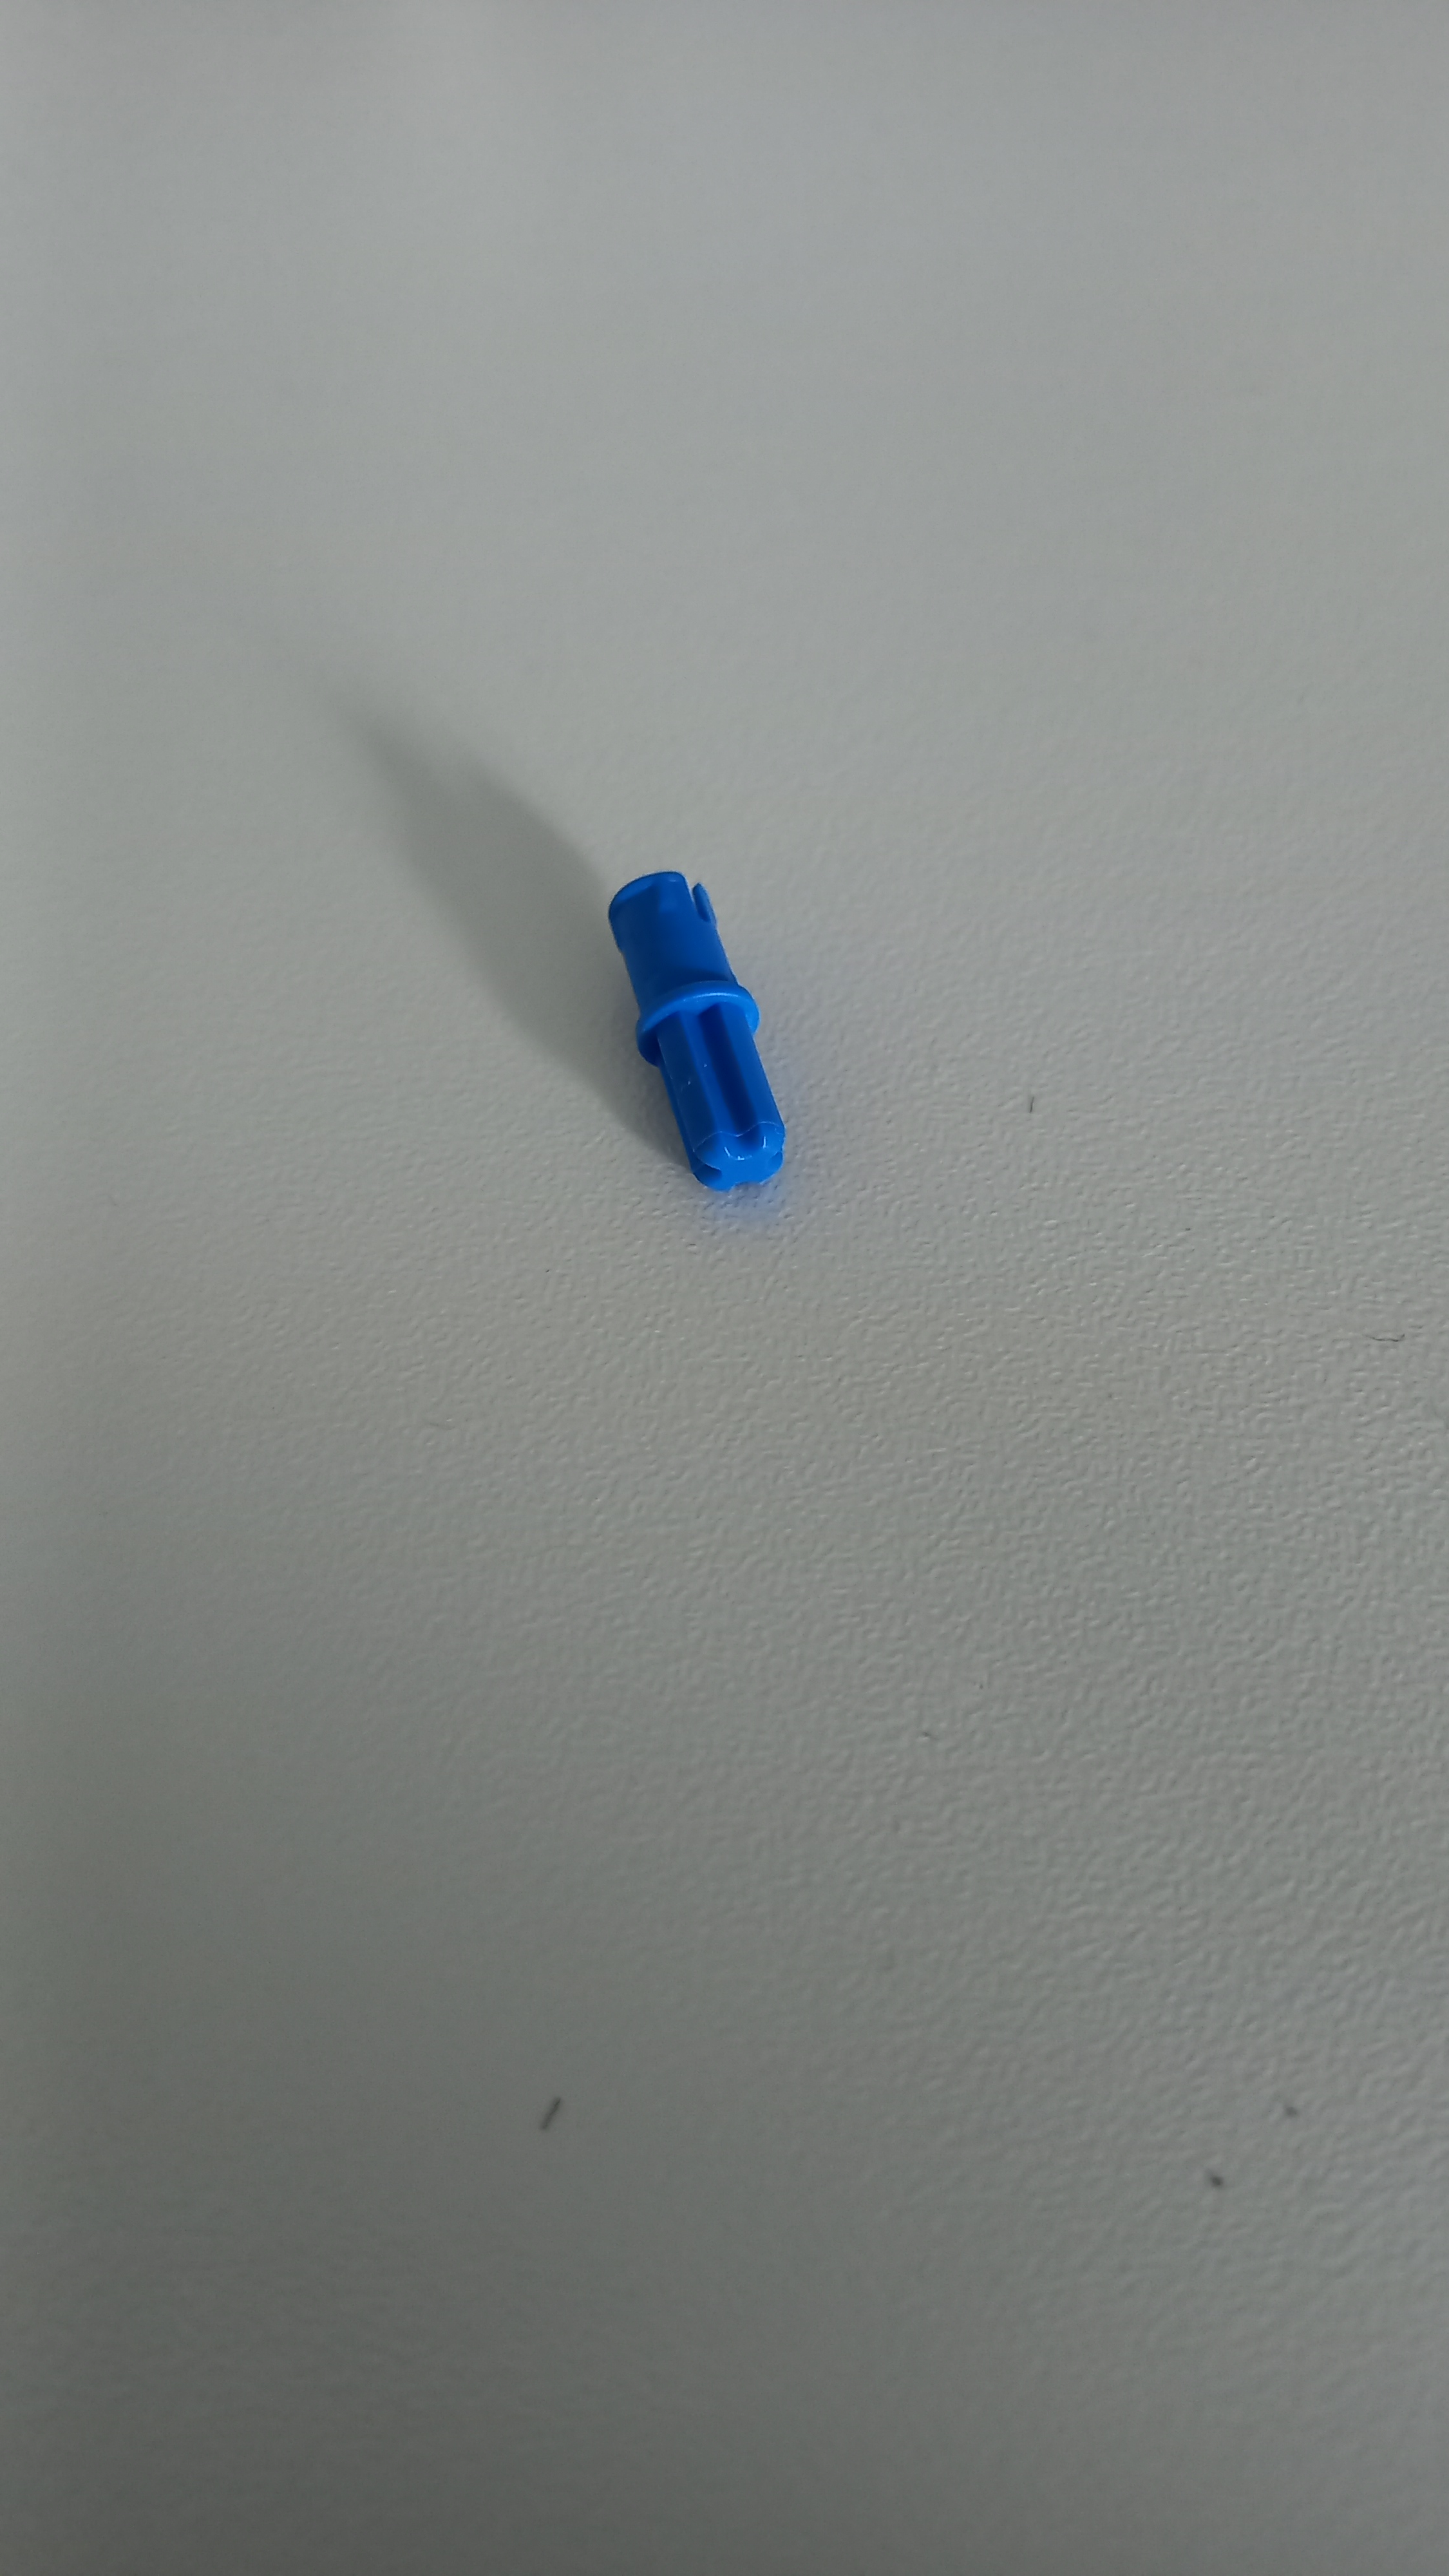Blau: (575, 844, 835, 1217)
